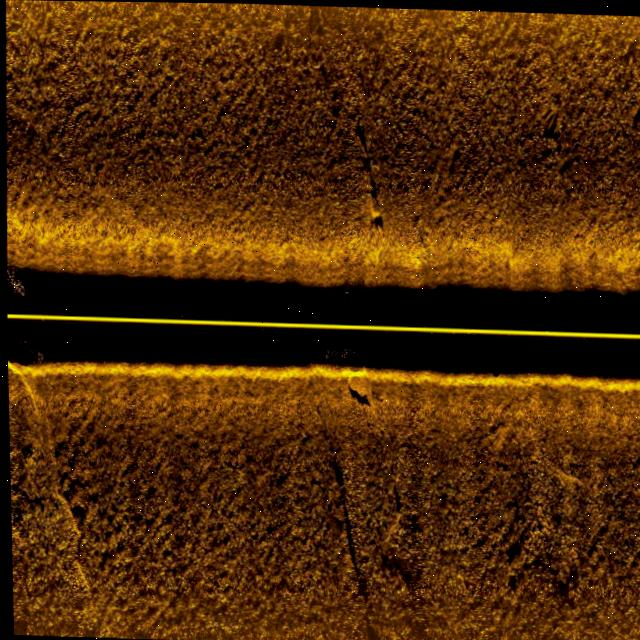other: (332, 360, 374, 411)
